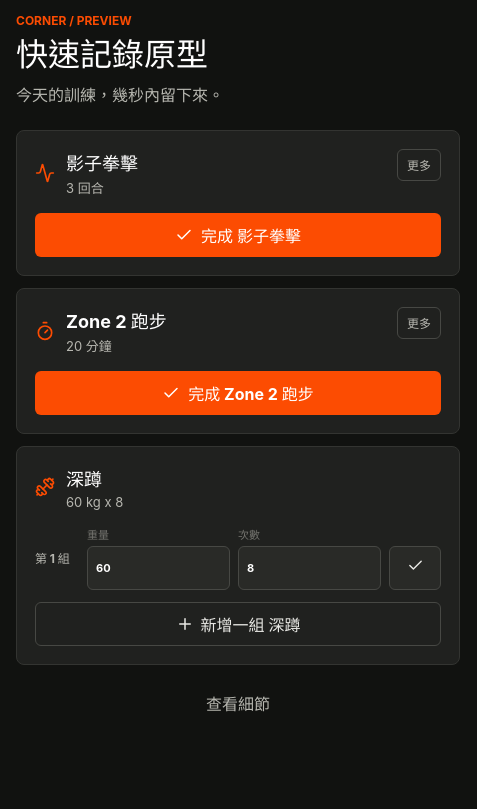
Scenario: Boxing Tracker › reveals inline quantity and notes from a compact More control
This screenshot has width=477, height=809.
Click the 1st button "更多" at (419,165), box [397, 149, 441, 181]
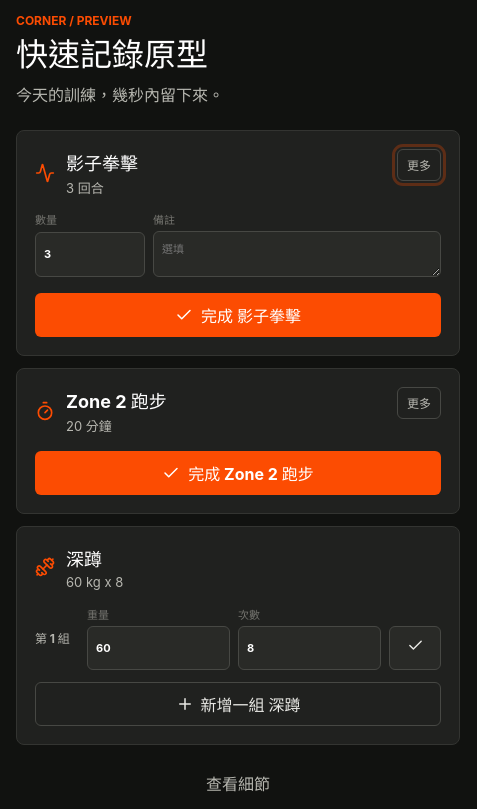
Expected: the number field named "影子拳擊數量" holds "3"
Replace the text in the number field named "影子拳擊數量" with "4" at (90,254), box [35, 232, 145, 277]
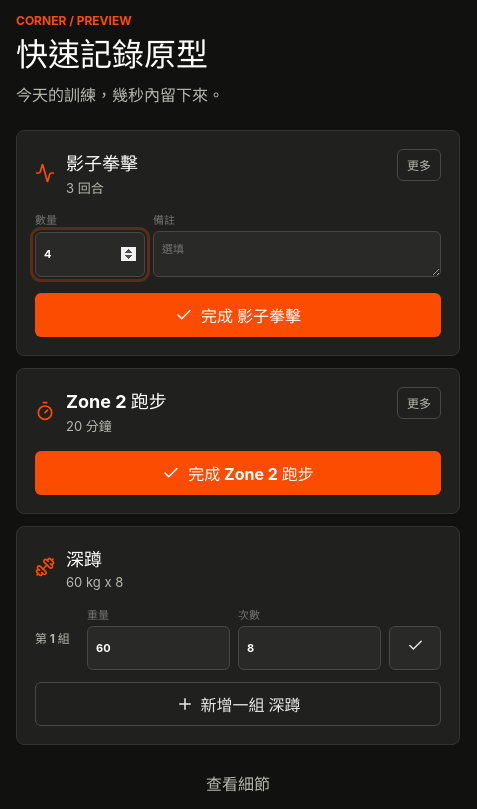
Press Tab
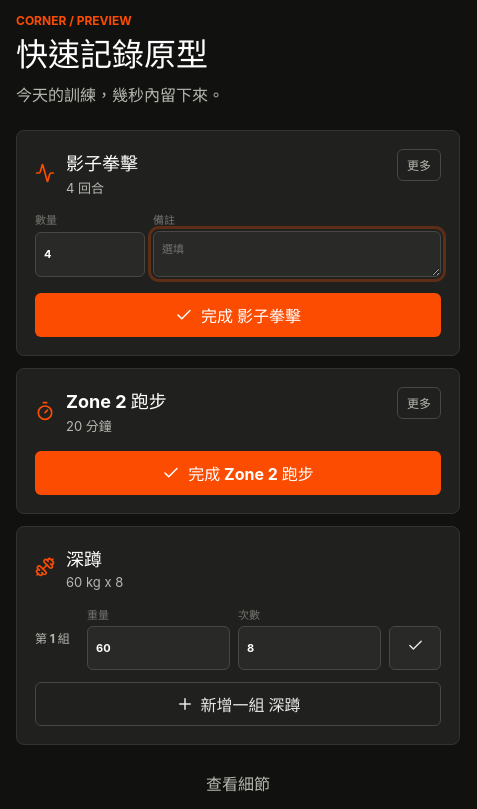
Expected: the text box named "影子拳擊備註" is shown, [153, 231, 441, 277]
Expected: the text "4 回合" is shown, [66, 180, 104, 196]
